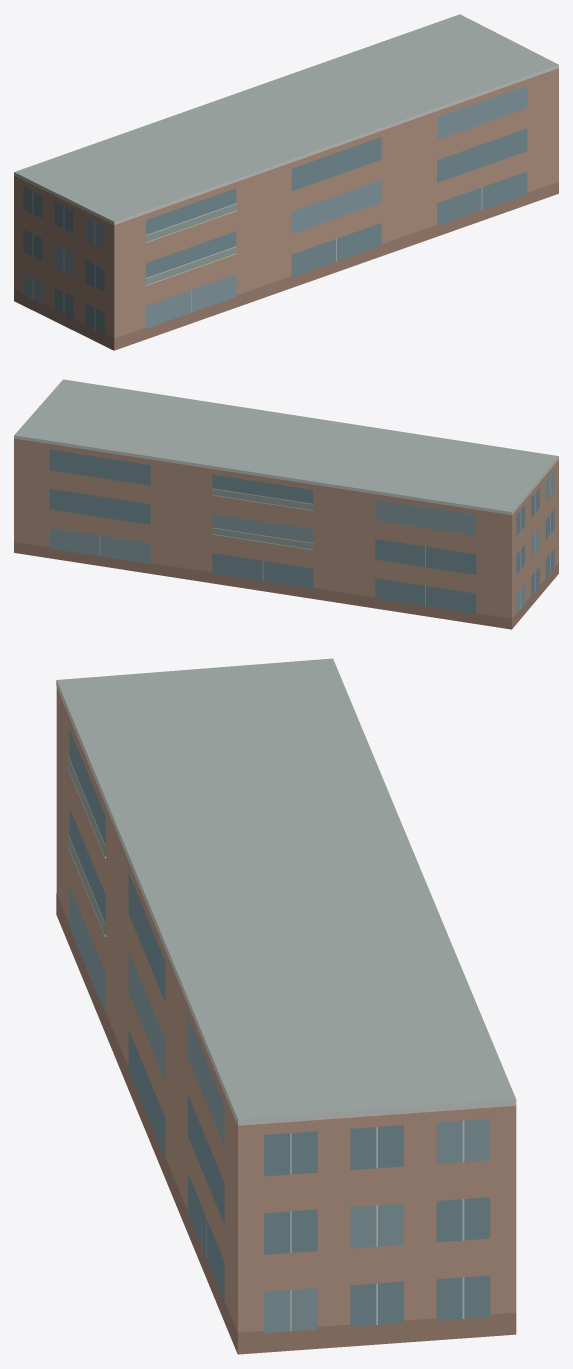
The model's file is survey-upis-32910502.glb.
3 renders of one model, top to bottom at view 1: azimuth 30°, elevation 25°; view 2: azimuth 150°, elevation 25°; view 3: azimuth 270°, elevation 25°, orthographic. The views are drawn at different scales.
Visible parts, largest first — view 1: survey-upis-32910502.tmp; view 2: survey-upis-32910502.tmp; view 3: survey-upis-32910502.tmp.
Part boxes in pixels (x1=…): survey-upis-32910502.tmp: x1=14, y1=14, x2=558, y2=350; survey-upis-32910502.tmp: x1=14, y1=379, x2=558, y2=629; survey-upis-32910502.tmp: x1=56, y1=658, x2=516, y2=1354.
Bounding box in the file's own units: 38.52 × 9.15 × 16.24.
